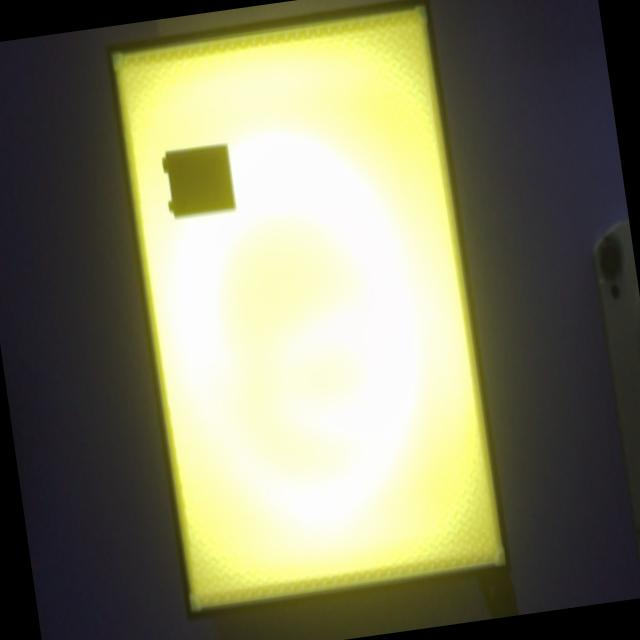bateria: (161, 140, 237, 219)
mesa: (106, 0, 513, 621)
